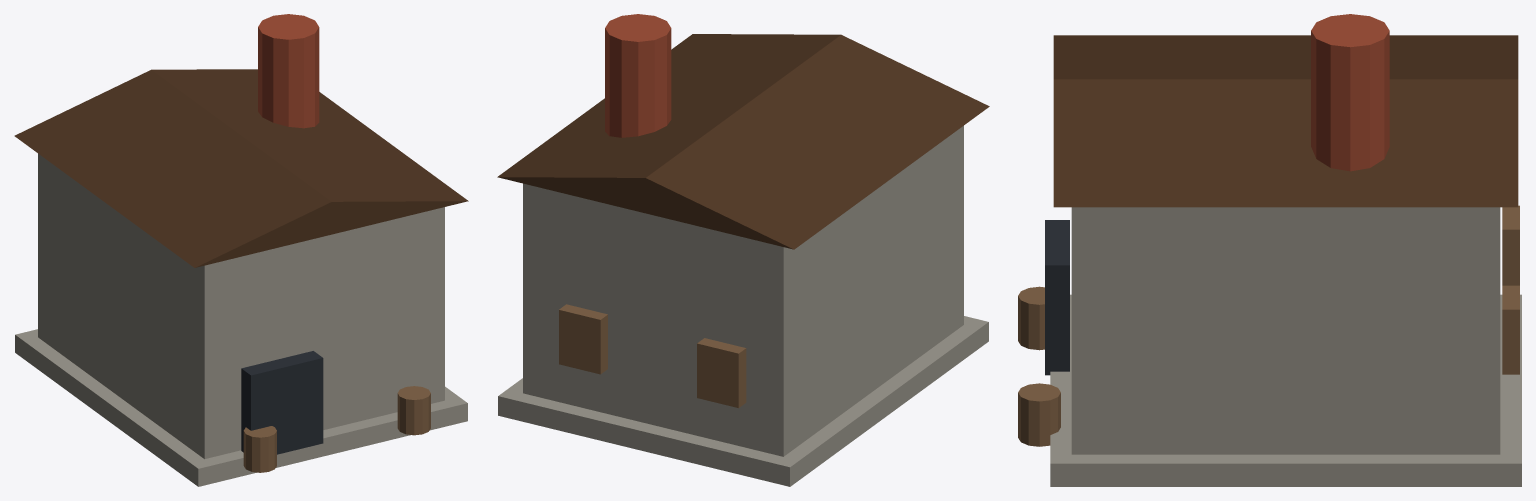
File: bld_industrial_a03_lod1.glb
3 renders of one model, left to right at view 1: azimuth 30°, elevation 25°; view 2: azimuth 150°, elevation 25°; view 3: azimuth 270°, elevation 25°, orthographic. The views are drawn at different scales.
Parts seen in each view (by area): view 1: body; view 2: body; view 3: body.
Boxes of the visible parts, x1=… form: body: x1=14, y1=14, x2=468, y2=486; body: x1=497, y1=14, x2=989, y2=486; body: x1=1018, y1=14, x2=1521, y2=486.
Bounding box in the file's own units: 5.7 × 6.44 × 7.05.
